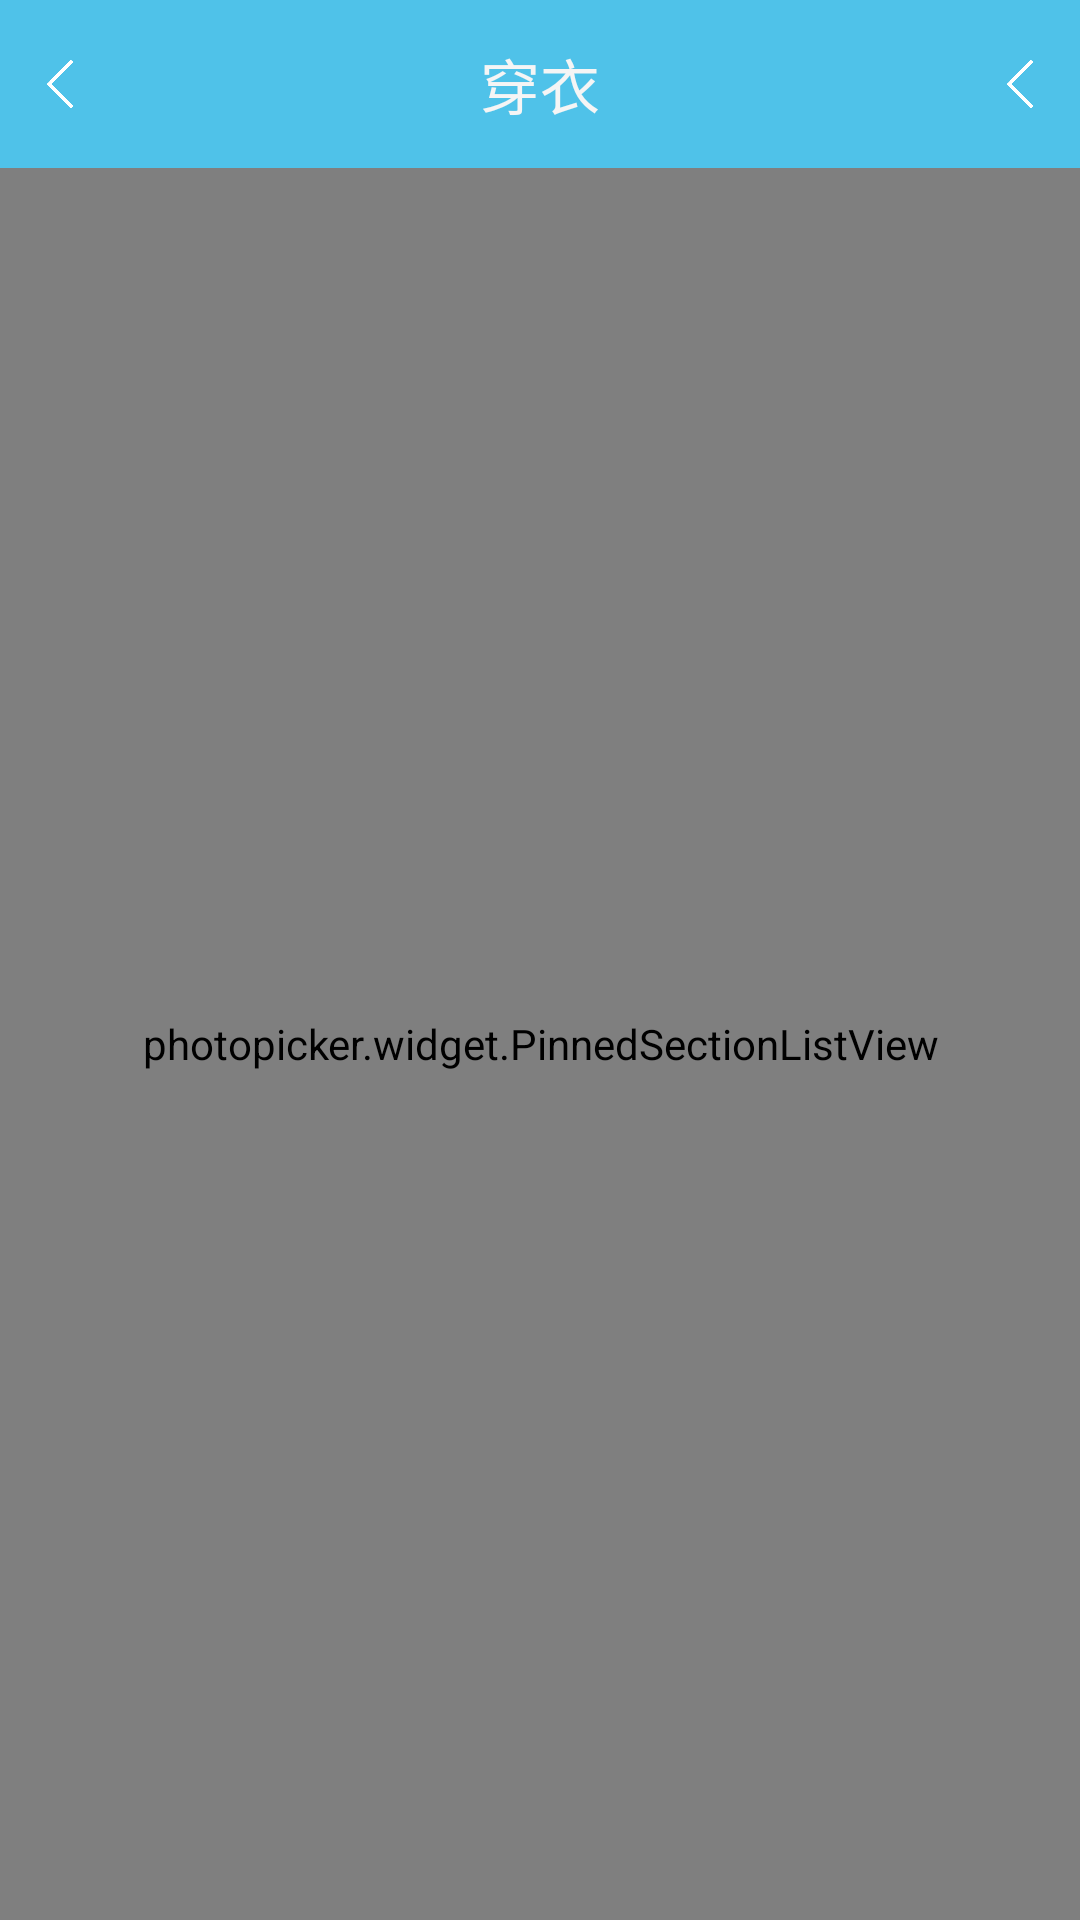

Icon click points for this 1080×1920 phone screenshot, format (x,y):
back: (60,84), (1020,84)
